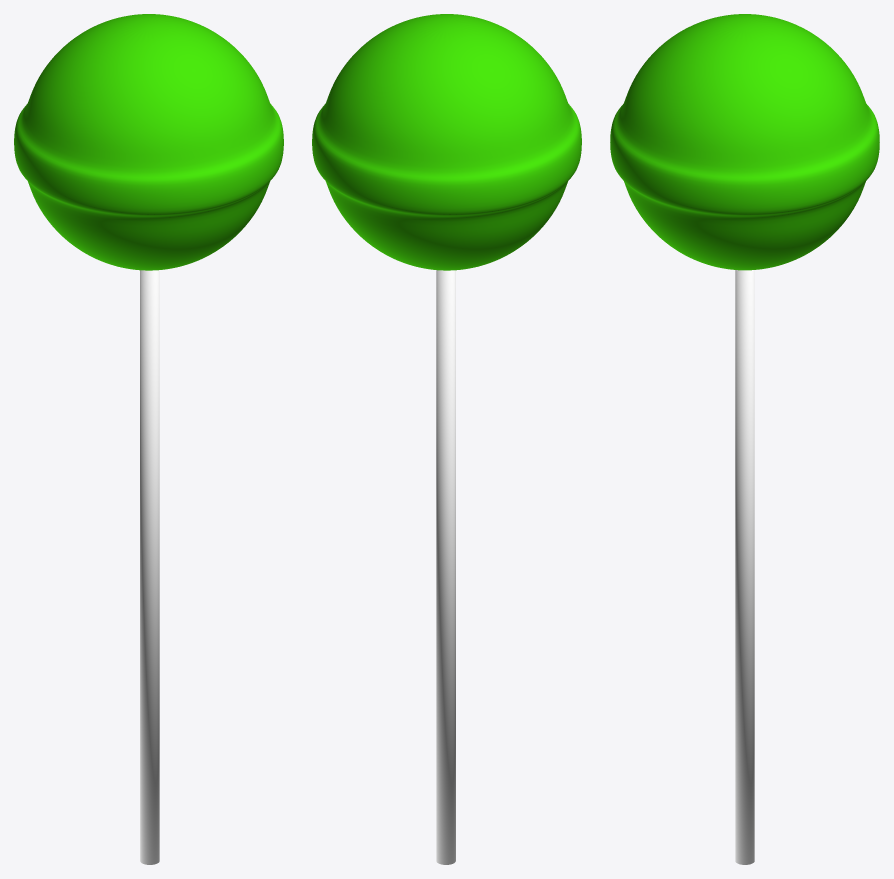
The model's file is giant_lollipop_green_v3.fbx.
3 renders of one model, left to right at view 1: azimuth 30°, elevation 25°; view 2: azimuth 150°, elevation 25°; view 3: azimuth 270°, elevation 25°, orthographic.
Visible parts, largest first — view 1: lollipop, cabo; view 2: lollipop, cabo; view 3: lollipop, cabo.
Part boxes in pixels (x1=…): lollipop: x1=14, y1=14, x2=283, y2=270; cabo: x1=140, y1=270, x2=159, y2=864; lollipop: x1=312, y1=14, x2=581, y2=270; cabo: x1=436, y1=270, x2=455, y2=864; lollipop: x1=610, y1=14, x2=879, y2=270; cabo: x1=735, y1=270, x2=754, y2=864.
Size of the model in its own units: 401 by 1371 by 401.
